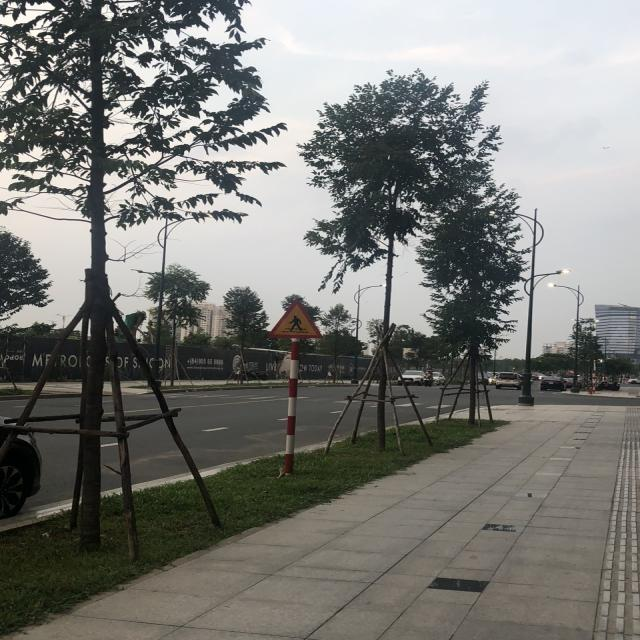Bien bao duong nguoi di bo cat ngang: (264, 298, 324, 340)
